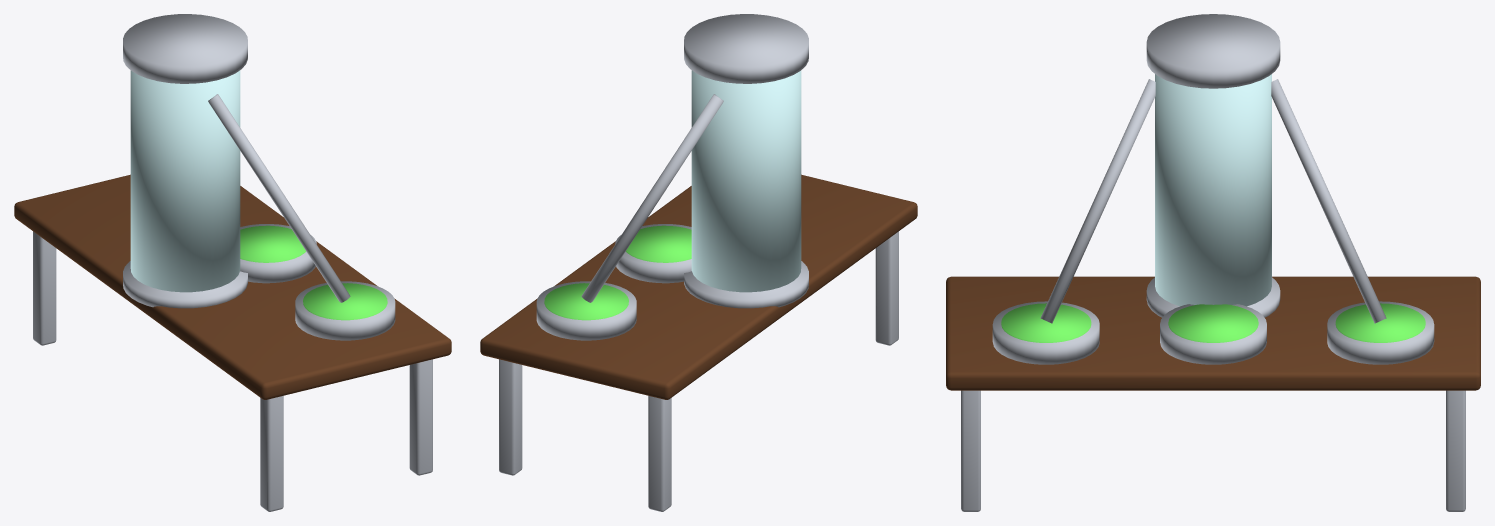
File: SM_FusionTable.fbx
The picture shows the model from 3 angles, left to right: view 1: azimuth 30°, elevation 25°; view 2: azimuth 150°, elevation 25°; view 3: azimuth 270°, elevation 25°; orthographic projection. The views are drawn at different scales.
Visible parts, largest first — view 1: SM_FusionTable; view 2: SM_FusionTable; view 3: SM_FusionTable.
Part boxes in pixels (x1=…): SM_FusionTable: x1=14, y1=14, x2=451, y2=511; SM_FusionTable: x1=480, y1=14, x2=917, y2=511; SM_FusionTable: x1=946, y1=14, x2=1480, y2=511.
Size of what is drawn, in the model's own units: 1.45 by 2.66 by 3.2.
Materials: 1 (1 with a texture image).
